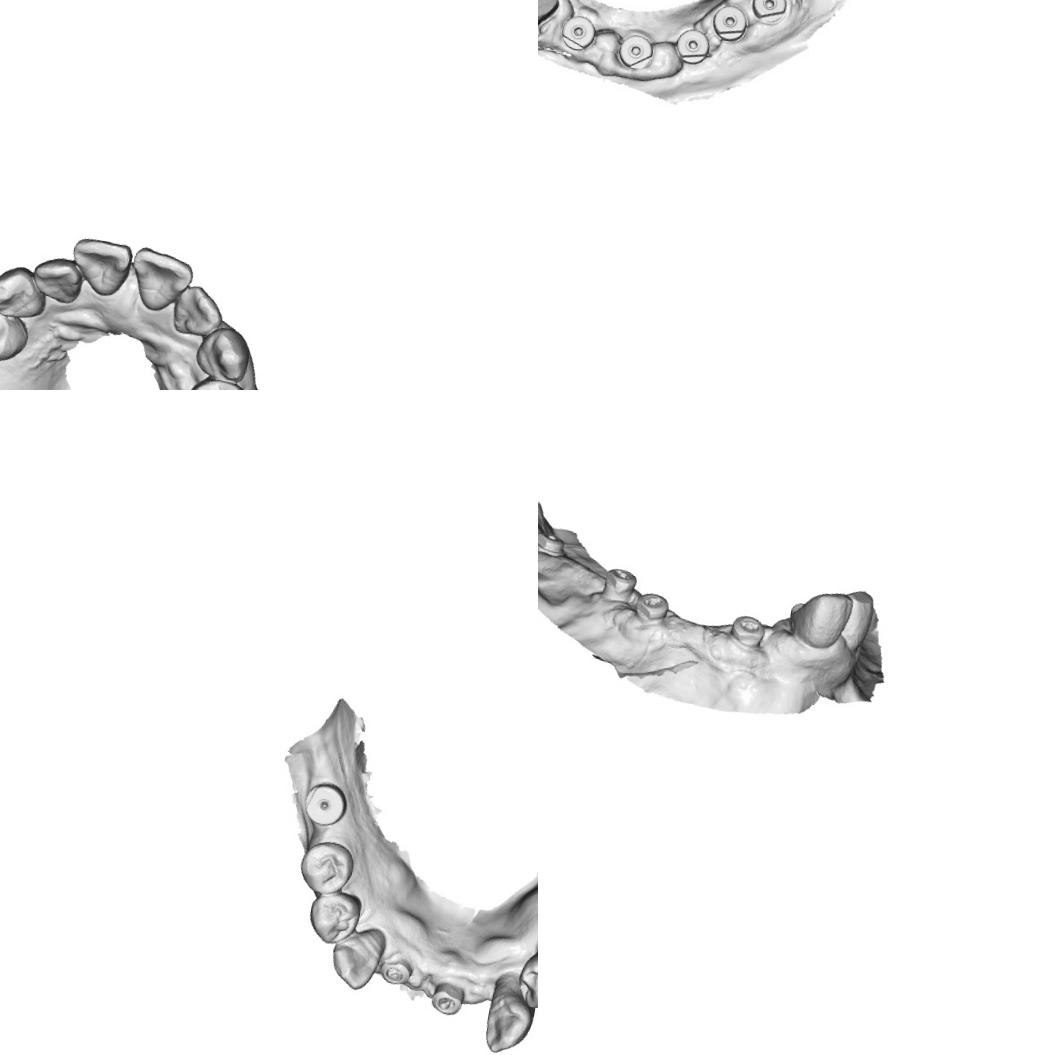canine: (323, 918, 391, 996), (476, 970, 538, 1055), (186, 321, 254, 386), (0, 259, 54, 324)
crown: (538, 0, 563, 38)
implant: (300, 776, 352, 829), (375, 946, 421, 996), (612, 28, 660, 75), (424, 976, 470, 1022), (708, 3, 753, 48), (672, 27, 718, 71), (554, 12, 600, 55), (745, 0, 793, 26), (538, 526, 569, 559)
implant_minus: (598, 564, 640, 606), (727, 611, 768, 650), (630, 588, 672, 625)
incisor: (123, 243, 195, 317), (783, 582, 855, 654), (63, 232, 135, 300), (163, 277, 227, 346), (28, 250, 88, 306)
premolar: (291, 832, 362, 902), (302, 886, 365, 952), (0, 297, 31, 367), (511, 948, 538, 1015), (178, 373, 259, 390)
